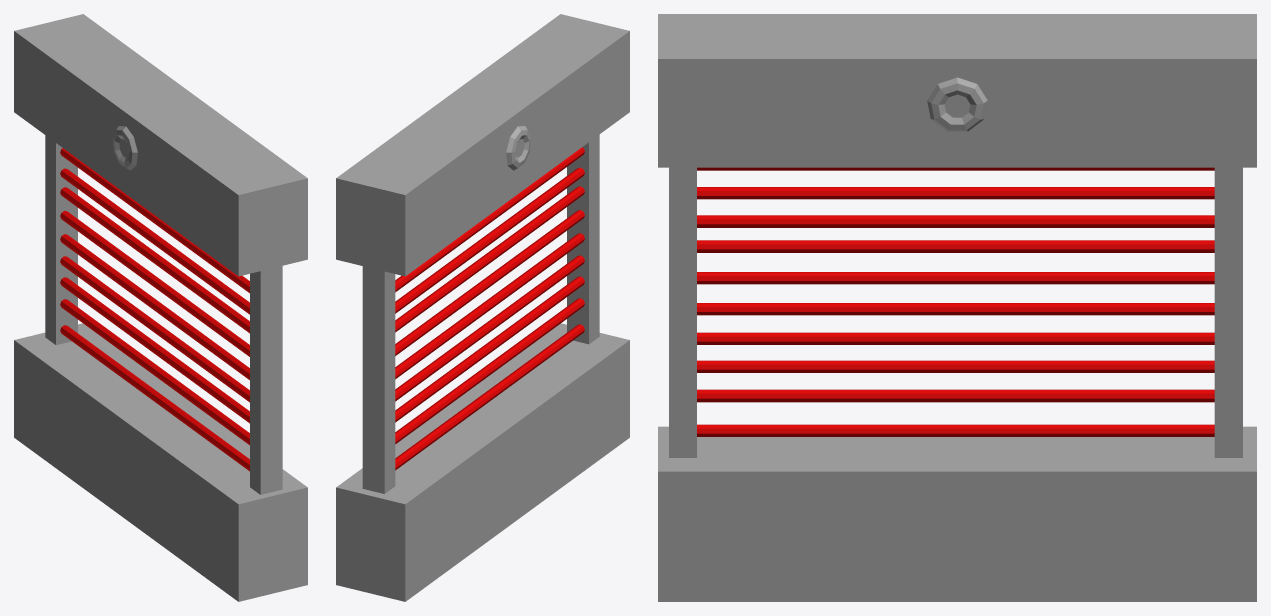
Rendered from WallByme.fbx.
The picture shows the model from 3 angles, left to right: view 1: azimuth 30°, elevation 25°; view 2: azimuth 150°, elevation 25°; view 3: azimuth 270°, elevation 25°; orthographic projection. The views are drawn at different scales.
Parts seen in each view (by area): view 1: pasted__pasted__pasted__pasted__pCylinder2; view 2: pasted__pasted__pasted__pasted__pCylinder2; view 3: pasted__pasted__pasted__pasted__pCylinder2.
Boxes of the visible parts, x1,y1,x2,y2 form: pasted__pasted__pasted__pasted__pCylinder2: [14, 14, 307, 601]; pasted__pasted__pasted__pasted__pCylinder2: [336, 14, 629, 601]; pasted__pasted__pasted__pasted__pCylinder2: [658, 14, 1256, 601].
Size of the model in its own units: 0.2002 by 1 by 1.
